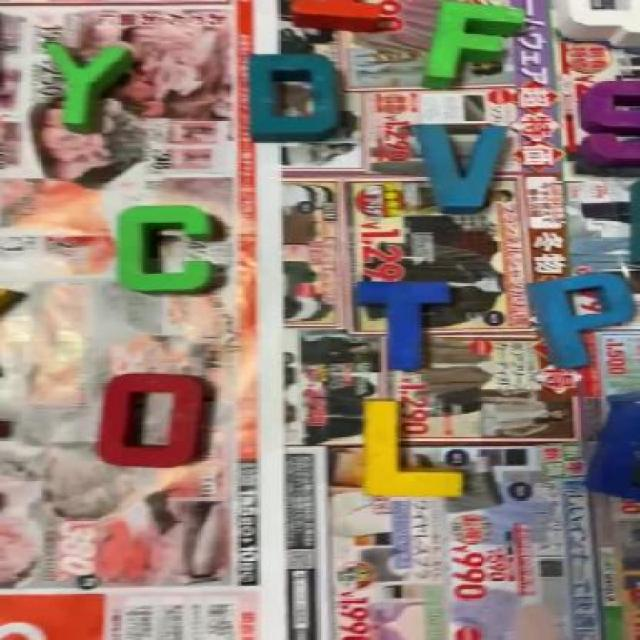C: (117, 204, 211, 296)
D: (246, 54, 351, 138)
F: (434, 3, 521, 85)
L: (354, 398, 466, 496)
O: (95, 371, 211, 464)
P: (534, 275, 626, 371)
T: (352, 280, 446, 371)
V: (416, 124, 510, 210)
Y: (49, 46, 136, 128)
